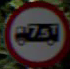Heavy Vehicles: (5, 7, 66, 60)
